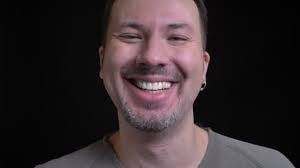white_male: (92, 5, 208, 124)
